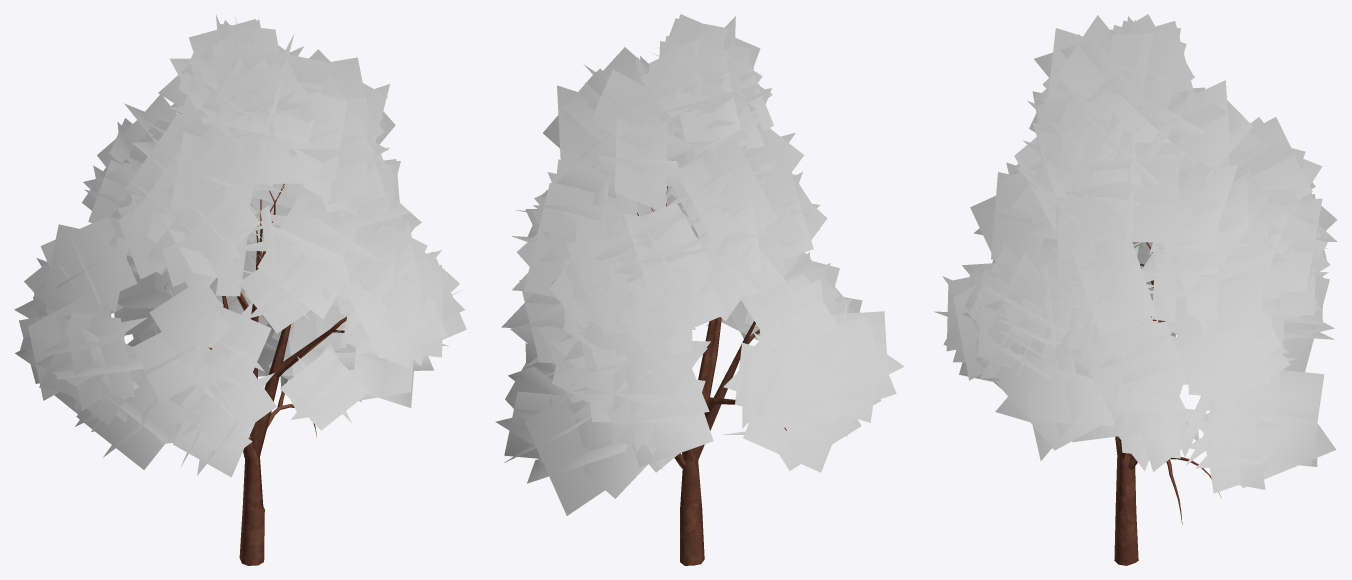
The model's file is S_Tree_A_LOD_1.fbx.
The picture shows the model from 3 angles, left to right: view 1: azimuth 30°, elevation 25°; view 2: azimuth 150°, elevation 25°; view 3: azimuth 270°, elevation 25°; orthographic projection.
Visible parts, largest first — view 1: S_Tree_A_LOD1; view 2: S_Tree_A_LOD1; view 3: S_Tree_A_LOD1.
Part boxes in pixels (x1,y1,x2,y2): S_Tree_A_LOD1: (14, 15, 466, 565); S_Tree_A_LOD1: (495, 14, 904, 565); S_Tree_A_LOD1: (934, 14, 1337, 565).
Bounding box in the file's own units: 521 × 742 × 504.
